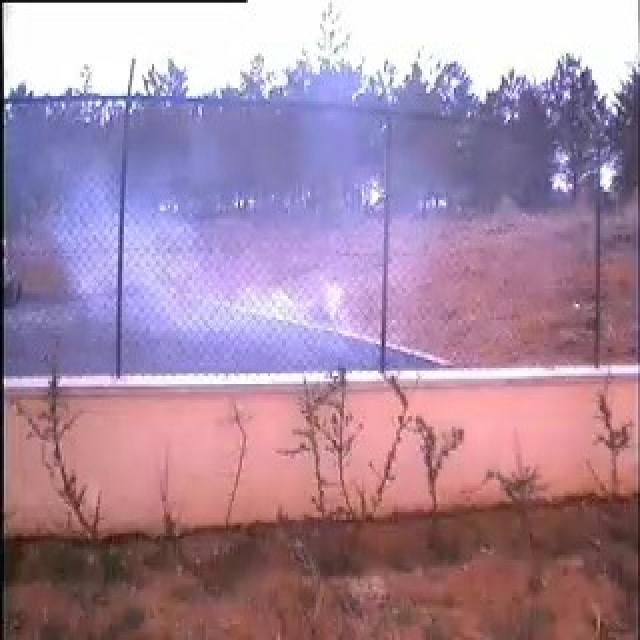smoke: (56, 158, 352, 374)
